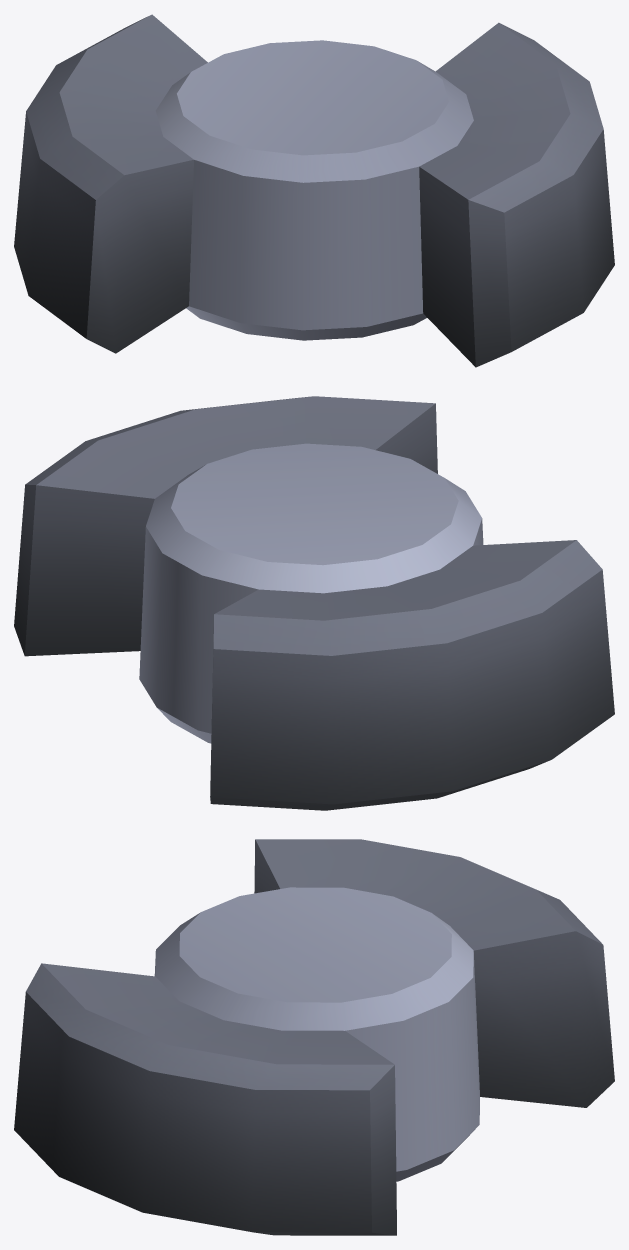
Rendered from SpacePart_Cylinder_009.fbx.
3 views of the same model, one above another, from view 1: azimuth 30°, elevation 25°; view 2: azimuth 150°, elevation 25°; view 3: azimuth 270°, elevation 25° (orthographic). The views are drawn at different scales.
Visible parts, largest first — view 1: Cylinder.009; view 2: Cylinder.009; view 3: Cylinder.009.
Boxes of the visible parts, left/top/right/bottom form: Cylinder.009: left=14, top=14, right=614, bottom=367; Cylinder.009: left=14, top=396, right=614, bottom=810; Cylinder.009: left=14, top=839, right=614, bottom=1235.
Bounding box in the file's own units: 13953 × 5129 × 13953.
